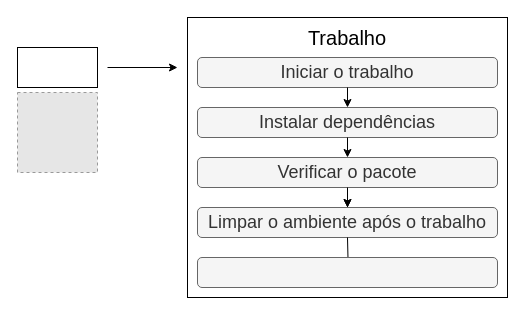
Some shapes in this 525 by 315 pixel diagram are drawn without their labels. Grey dashed boxes stand in for pictures. Here are the shapes that lost their labels. From the top down, the centre of each, then its label:
(57,67): Evento
(347,272): Finalizar o trabalho
